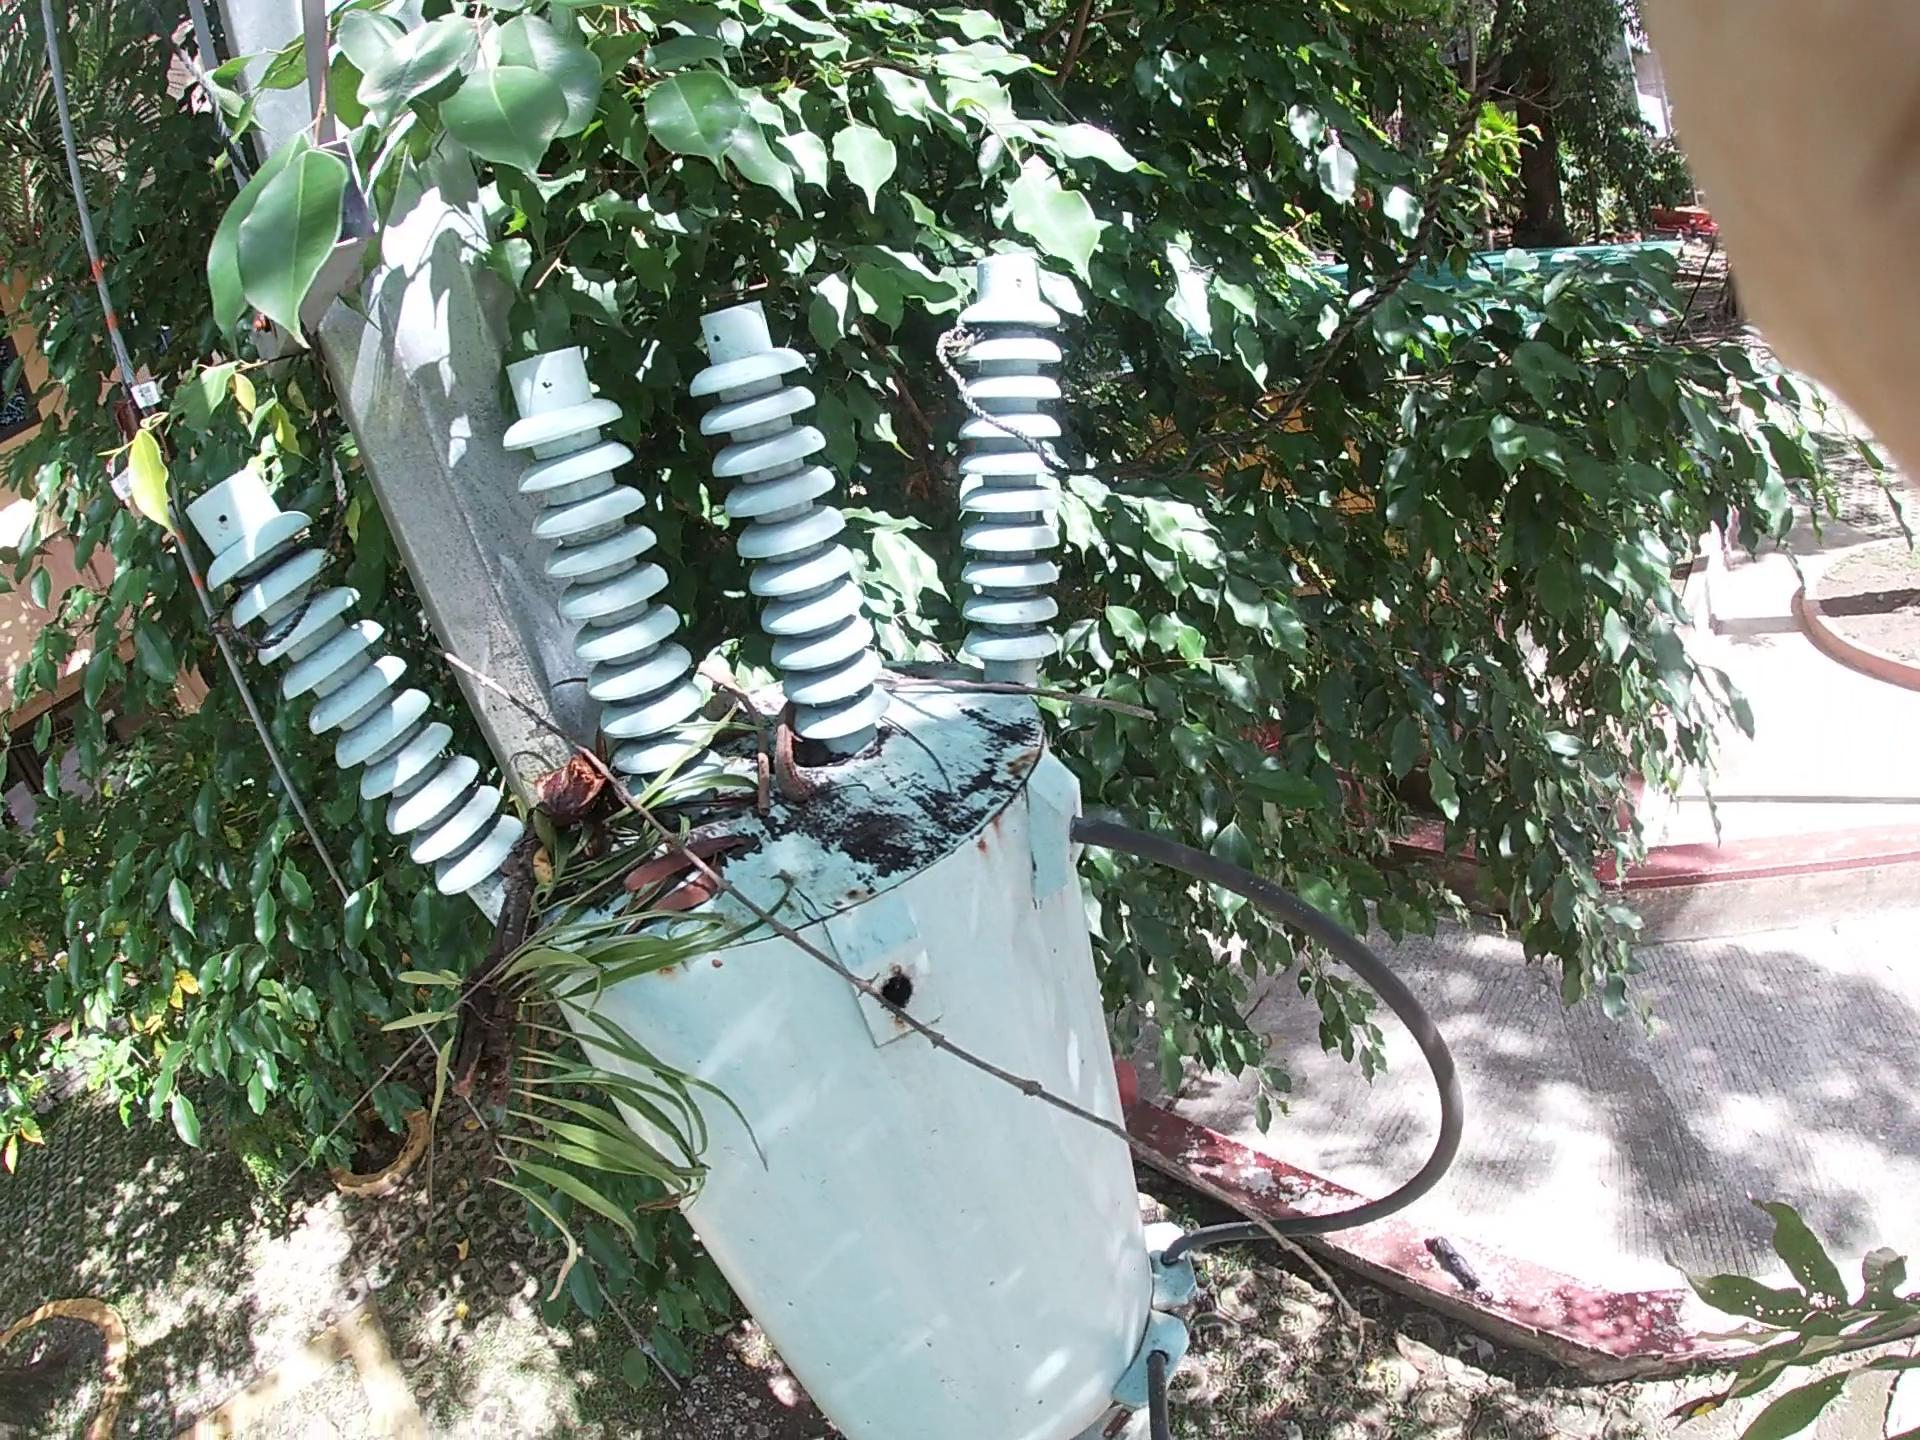branch with leaves: (259, 768, 694, 1141)
leaf: (584, 817, 785, 911)
mahogany fruit: (485, 717, 650, 874), (729, 694, 812, 815)
tree branch: (337, 610, 1296, 1175), (853, 650, 1209, 796), (689, 711, 831, 867)
